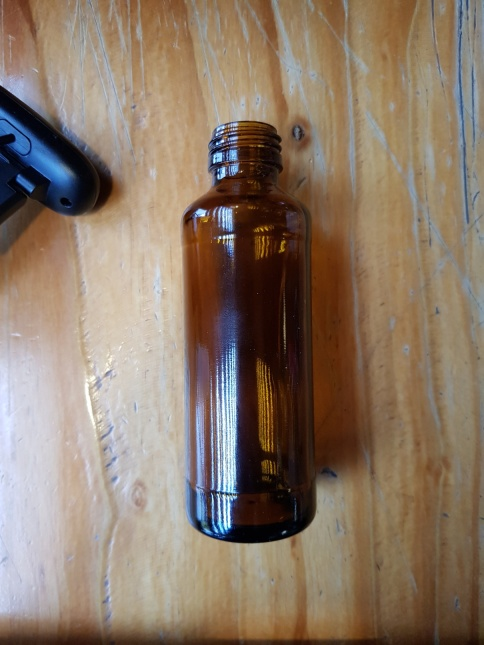Glass: (181, 118, 323, 547)
